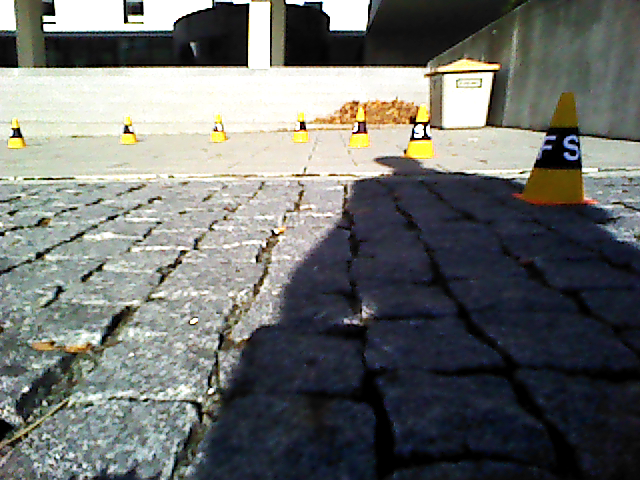yellowcone: (522, 92, 582, 203), (405, 105, 434, 159), (349, 108, 369, 148), (6, 119, 27, 149), (119, 117, 138, 144), (210, 115, 228, 142), (293, 113, 309, 142)
